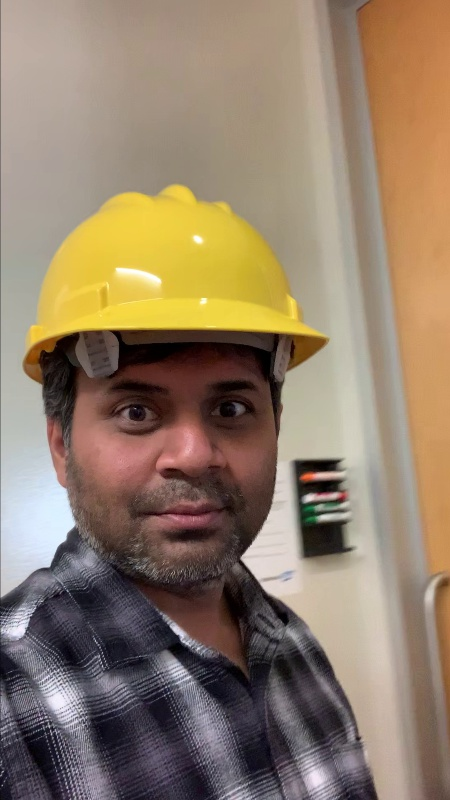helmet: (7, 182, 332, 379)
